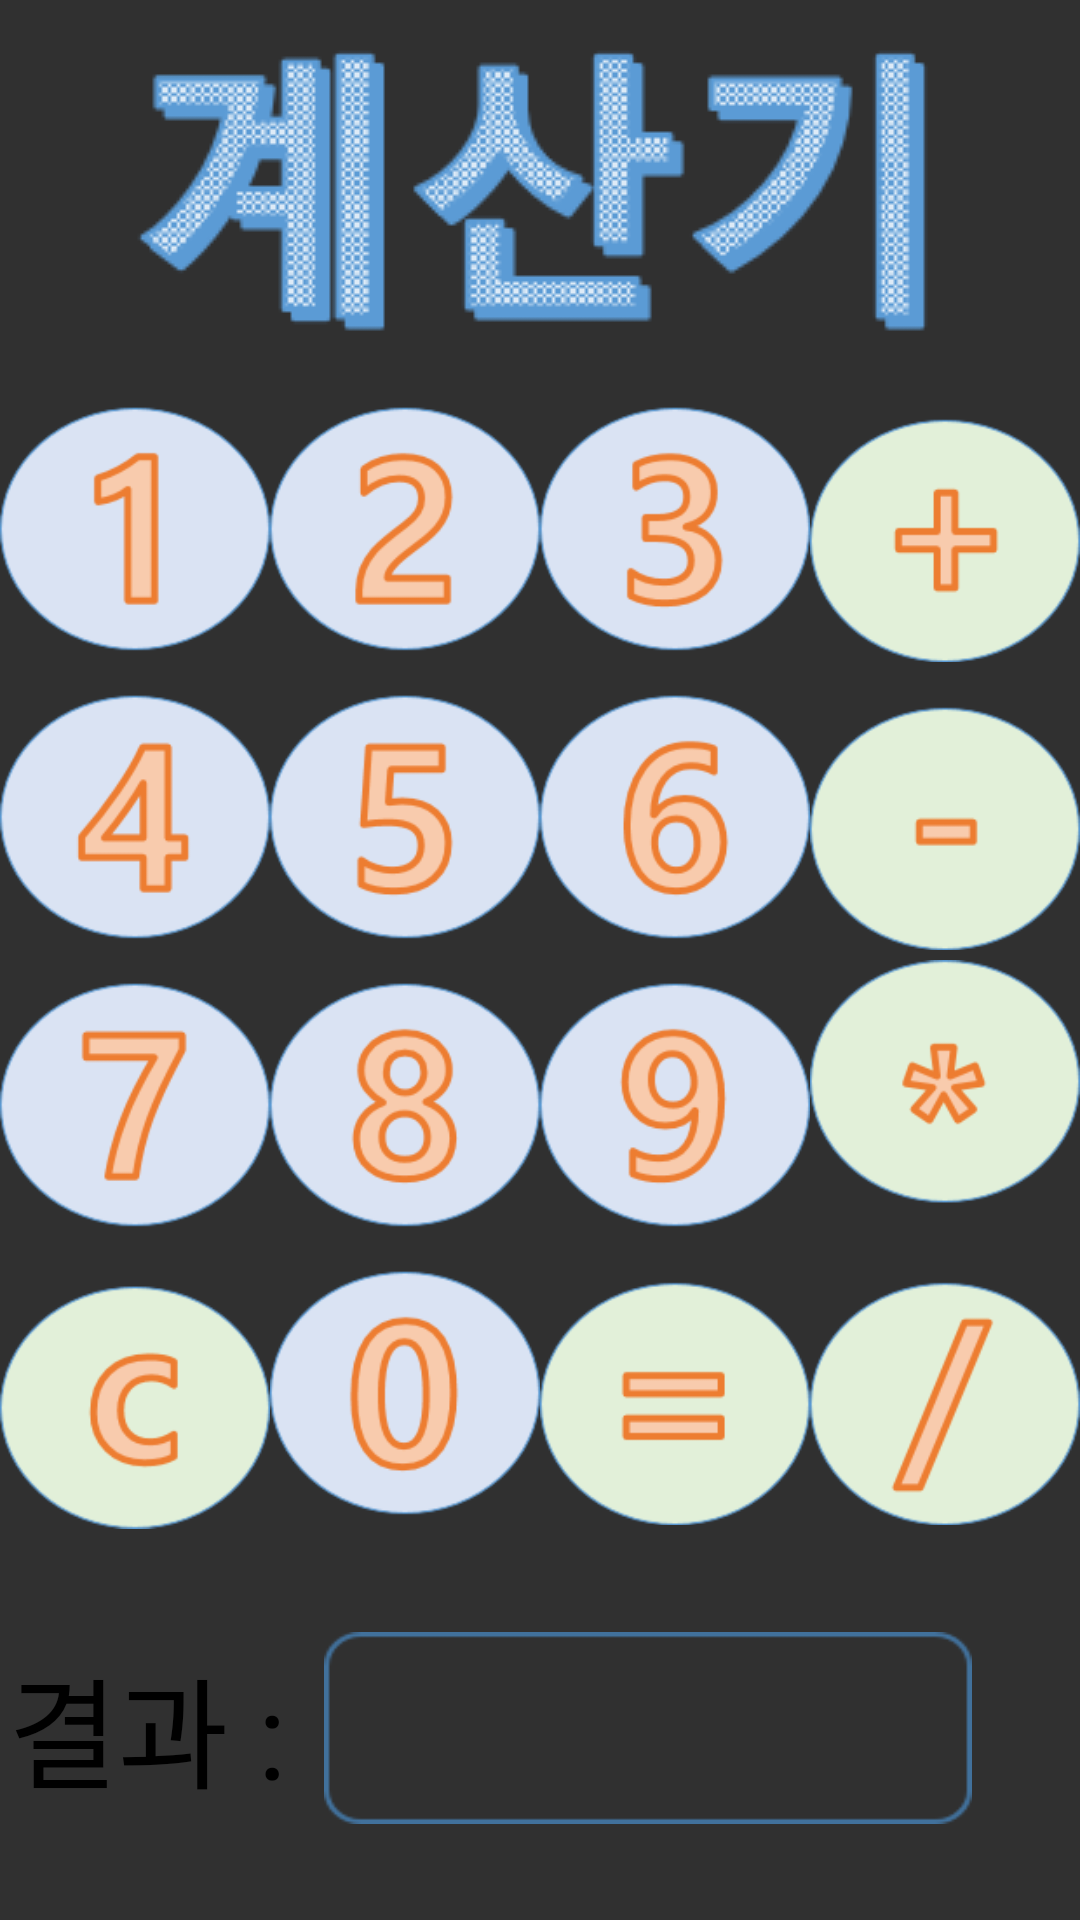

Where icons sit on this 1080 x 1920 app screen, as (x1=x1, y1=y1, x2=x2, y2=y2):
clear: (x1=0, y1=1286, x2=270, y2=1529)
div: (x1=810, y1=1283, x2=1080, y2=1525)
mul: (x1=810, y1=960, x2=1080, y2=1203)
plus: (x1=810, y1=419, x2=1080, y2=662)
